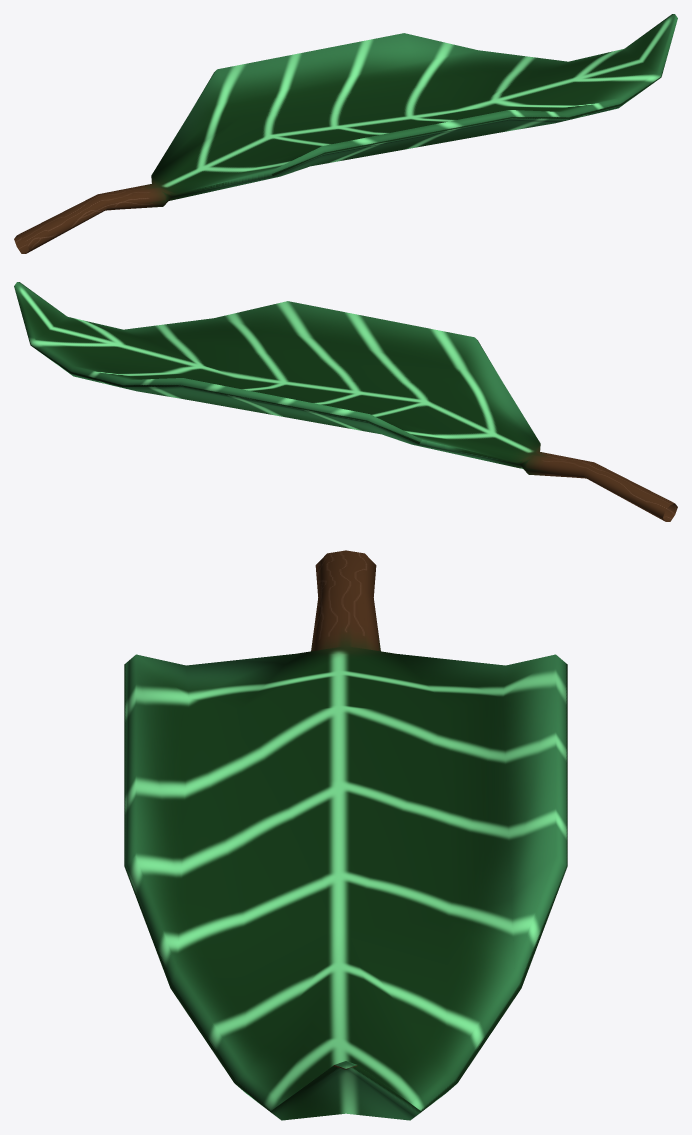
File: Leaves-1.fbx
The picture shows the model from 3 angles, top to bottom: view 1: azimuth 30°, elevation 25°; view 2: azimuth 150°, elevation 25°; view 3: azimuth 270°, elevation 25°; orthographic projection. The views are drawn at different scales.
Parts seen in each view (by area): view 1: Leaf-Large-4.002; view 2: Leaf-Large-4.002; view 3: Leaf-Large-4.002.
Part boxes in pixels (x1,y1,x2,y2): Leaf-Large-4.002: (14, 14, 677, 253); Leaf-Large-4.002: (14, 282, 677, 521); Leaf-Large-4.002: (124, 550, 567, 1120).
Bounding box in the file's own units: 1956 × 245 × 574.
